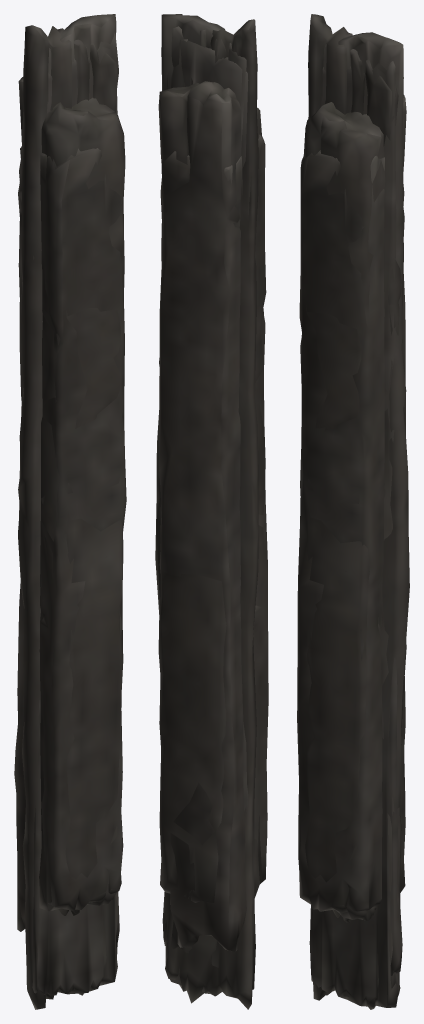
File: WoodPlanks.fbx
3 renders of one model, left to right at view 1: azimuth 30°, elevation 25°; view 2: azimuth 150°, elevation 25°; view 3: azimuth 330°, elevation 25°, orthographic.
Visible parts, largest first — view 1: WoodBeam_02, WoodBeam_01, WoodPlank_01, WoodPlank_03, WoodPlank_02; view 2: WoodBeam_01, WoodBeam_02, WoodPlank_01, WoodPlank_03, WoodPlank_02; view 3: WoodBeam_02, WoodBeam_01, WoodPlank_03, WoodPlank_01, WoodPlank_02.
Boxes of the visible parts, x1,y1,x2,y2 form: WoodBeam_02: [20, 147, 126, 910]; WoodBeam_01: [14, 77, 125, 931]; WoodPlank_01: [18, 25, 117, 1009]; WoodPlank_03: [32, 14, 117, 995]; WoodPlank_02: [41, 33, 119, 948]; WoodBeam_01: [158, 81, 265, 951]; WoodBeam_02: [158, 134, 268, 902]; WoodPlank_01: [165, 19, 258, 1009]; WoodPlank_03: [155, 14, 255, 992]; WoodPlank_02: [162, 26, 248, 967]; WoodBeam_02: [297, 150, 406, 912]; WoodBeam_01: [300, 95, 406, 922]; WoodPlank_03: [309, 32, 409, 1007]; WoodPlank_01: [308, 14, 401, 1009]; WoodPlank_02: [321, 61, 402, 975].
Bounding box in the file's own units: 24.87 × 231 × 18.63.
